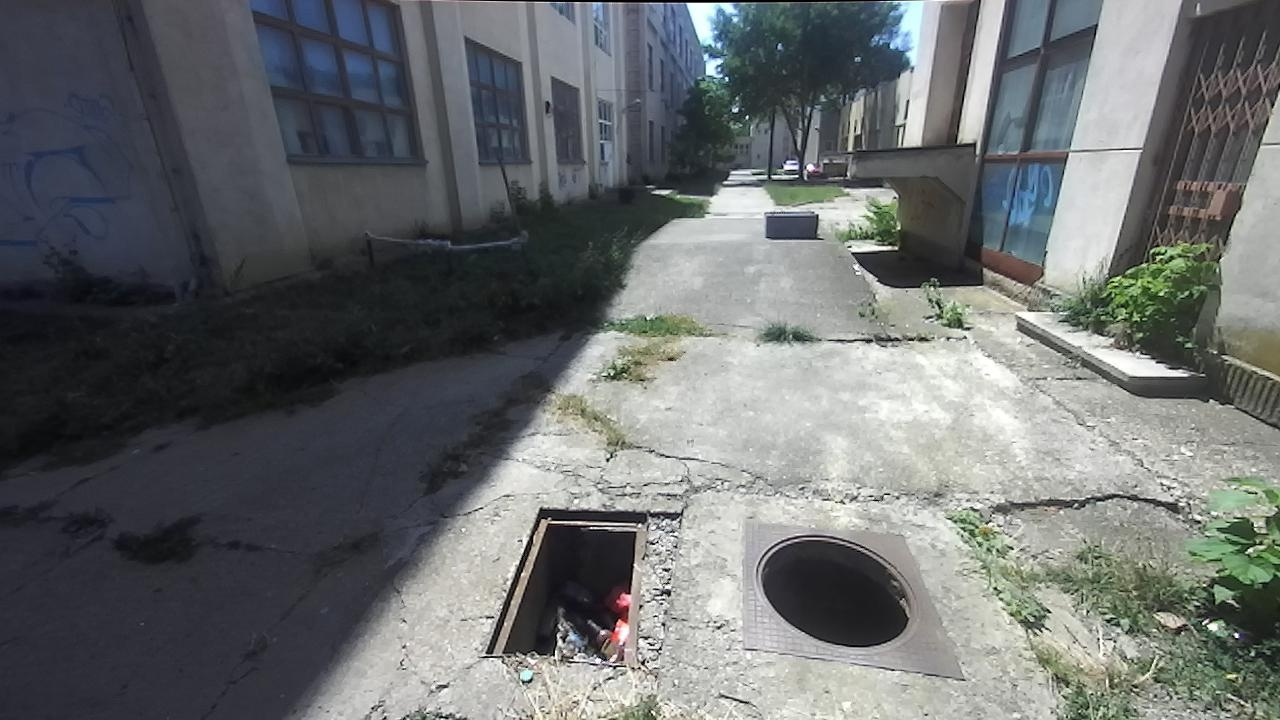drain: (470, 503, 655, 669), (752, 530, 924, 658)
